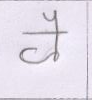ai_matra: (43, 11, 64, 31)
